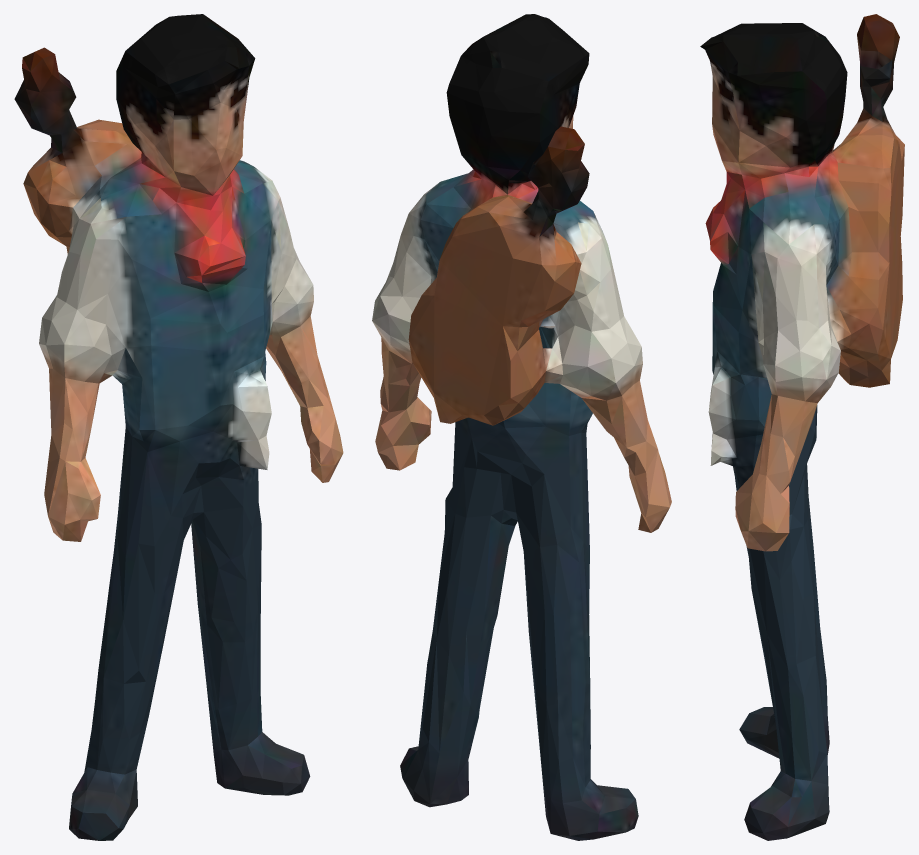
The model's file is habitant-loin.glb.
The picture shows the model from 3 angles, left to right: view 1: azimuth 30°, elevation 25°; view 2: azimuth 150°, elevation 25°; view 3: azimuth 270°, elevation 25°; orthographic projection. The views are drawn at different scales.
Visible parts, largest first — view 1: habitant; view 2: habitant; view 3: habitant.
Part boxes in pixels (x1,y1,x2,y2): habitant: [14, 14, 343, 840]; habitant: [372, 14, 671, 840]; habitant: [700, 14, 904, 840].
Size of the model in its own units: 0.3933 by 1.01 by 0.2448.
Materials: 1 (1 with a texture image).
